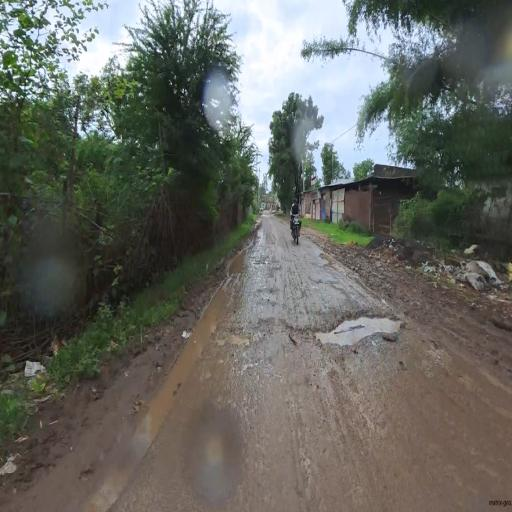pothole: (287, 288, 414, 377)
